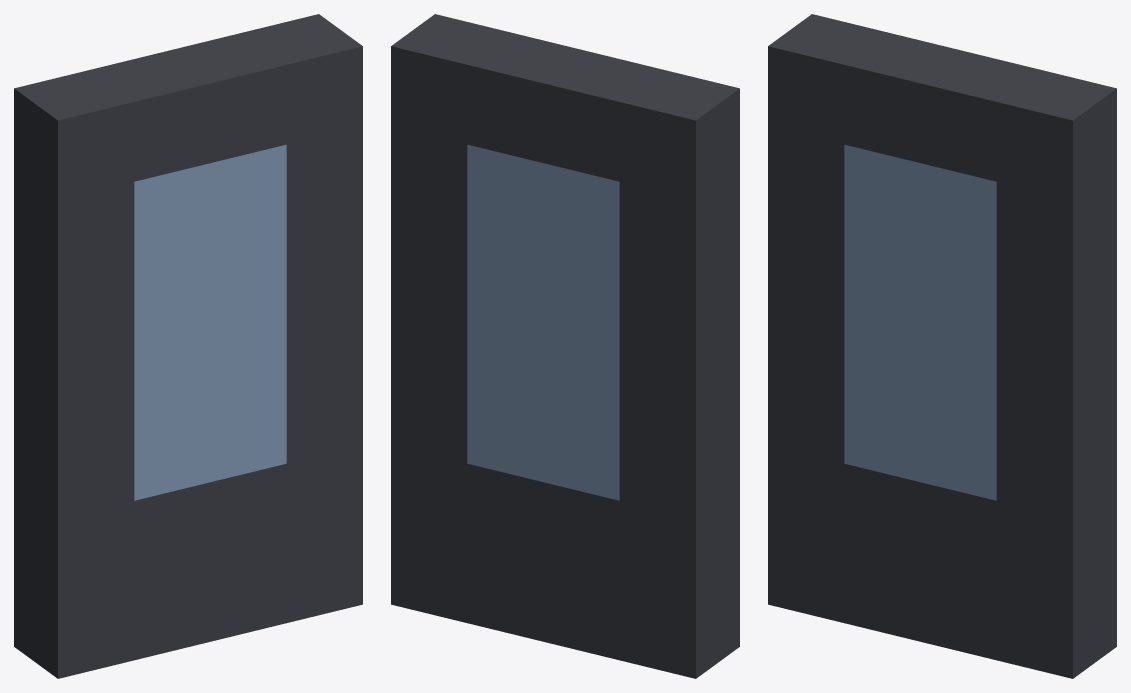
Rendered from telephone_bernard.glb.
The picture shows the model from 3 angles, left to right: view 1: azimuth 30°, elevation 25°; view 2: azimuth 150°, elevation 25°; view 3: azimuth 330°, elevation 25°; orthographic projection.
Visible parts, largest first — view 1: main; view 2: main; view 3: main.
Part boxes in pixels (x1,y1,x2,y2): main: (14, 14, 362, 678); main: (391, 14, 739, 678); main: (768, 14, 1116, 678).
Size of the model in its own units: 0.25 by 0.4375 by 0.0625.
